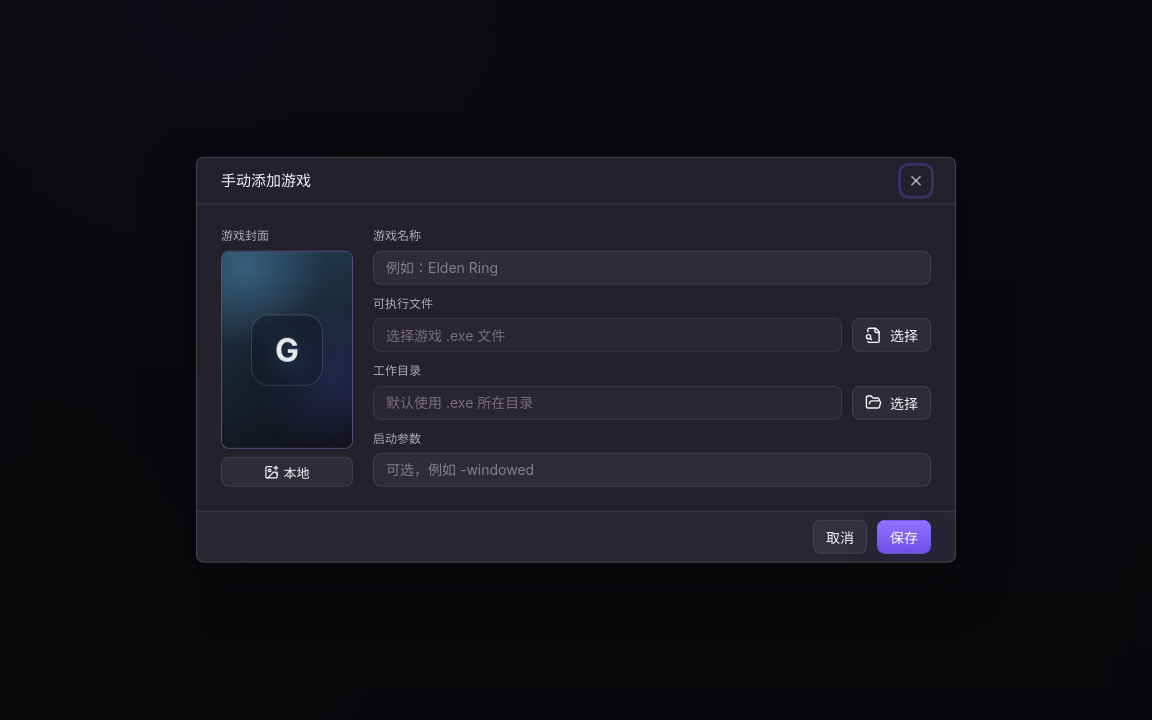
it: AddGameDialog › does not submit when the game name is blank
The image size is (1152, 720).
Clear the field with id "game-name". click: [652, 268]
box: [386, 259, 918, 276]
Type "D:\\Games\\Hollow Knight\\hollow_knight.exe" into the field with id "game-exe". click: [608, 335]
box: [386, 326, 829, 344]
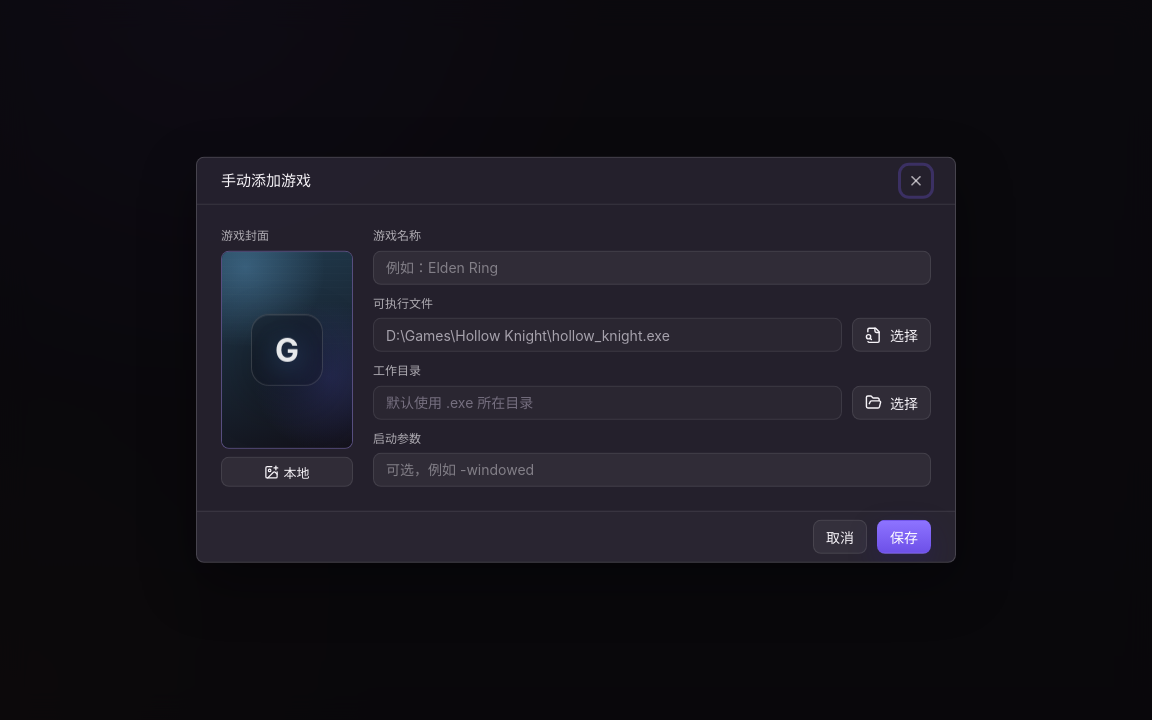
Click the button "保存". click: [904, 537]
box: [877, 520, 931, 554]
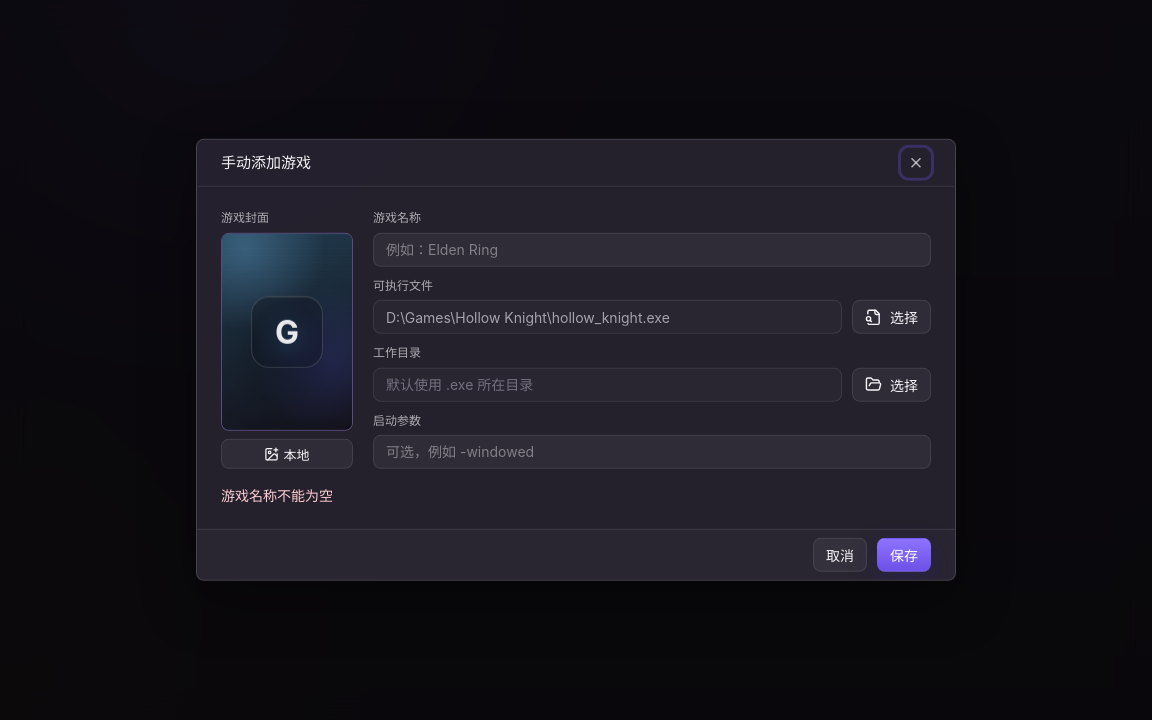
Result: the dialog shows "游戏名称不能为空" at [221, 487, 333, 504]
